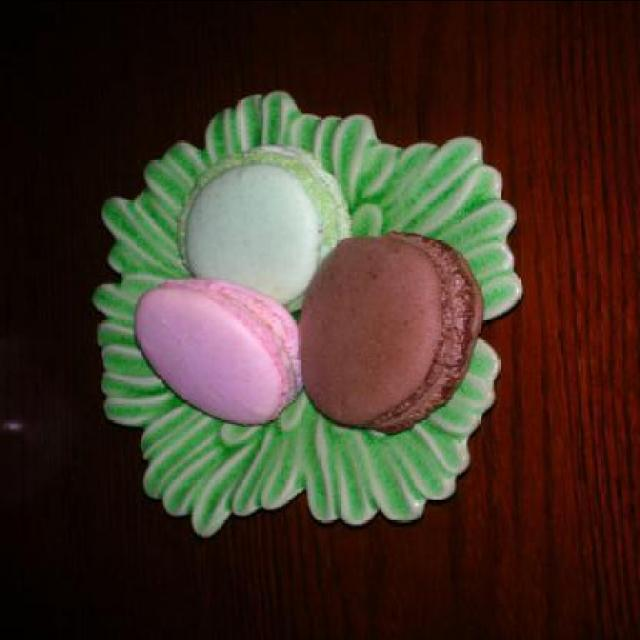Macaron: (130, 141, 488, 433)
